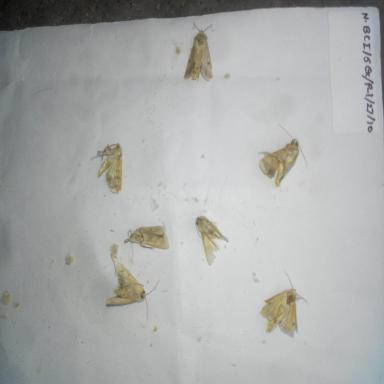abw: (102, 253, 165, 322), (258, 268, 311, 340), (257, 125, 310, 191), (176, 20, 222, 90), (190, 210, 232, 271), (88, 136, 128, 198), (122, 218, 173, 254)
